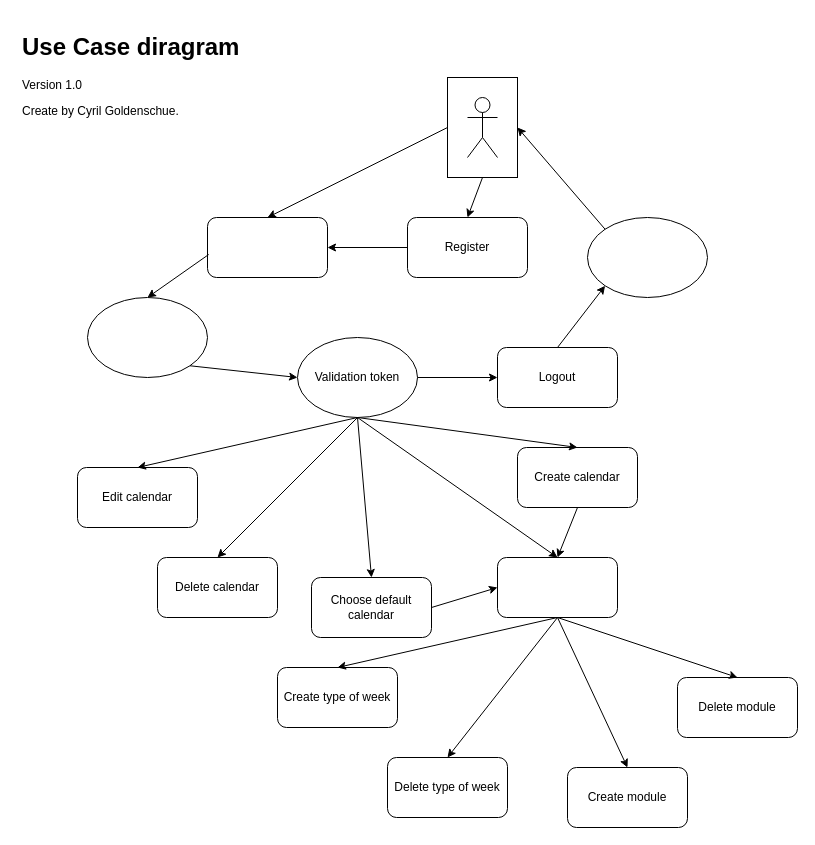
The diagram is 815 pixels wide and 845 high, and some of its shapes have lost their labels. Each missing label, with the centre of its shape:
"Actor" goes at (x=482, y=127).
"Create token" goes at (x=147, y=337).
"Delete token" goes at (x=647, y=257).
"Display calendar" goes at (x=557, y=587).
"Login" goes at (x=267, y=247).
